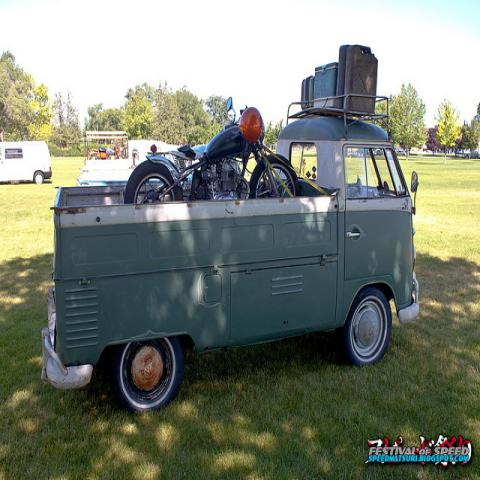motorcycle: (123, 93, 296, 203)
truck: (42, 99, 422, 411), (0, 138, 53, 184)
